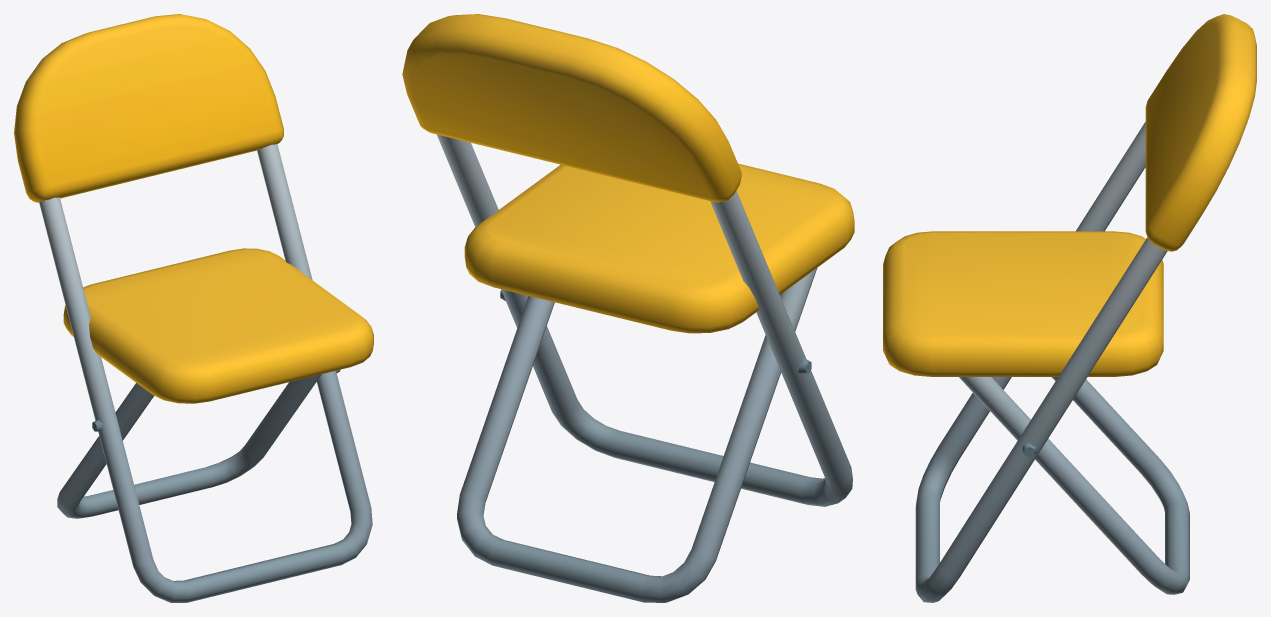
File: Chair_09.glb
3 renders of one model, left to right at view 1: azimuth 30°, elevation 25°; view 2: azimuth 150°, elevation 25°; view 3: azimuth 270°, elevation 25°, orthographic. The views are drawn at different scales.
Visible parts, largest first — view 1: Chair_09; view 2: Chair_09; view 3: Chair_09.
Boxes of the visible parts, x1,y1,x2,y2 form: Chair_09: [14, 14, 373, 602]; Chair_09: [402, 14, 854, 602]; Chair_09: [883, 14, 1256, 602].
Bounding box in the file's own units: 0.4609 × 0.8061 × 0.5328.
1 material, 1 textured.
